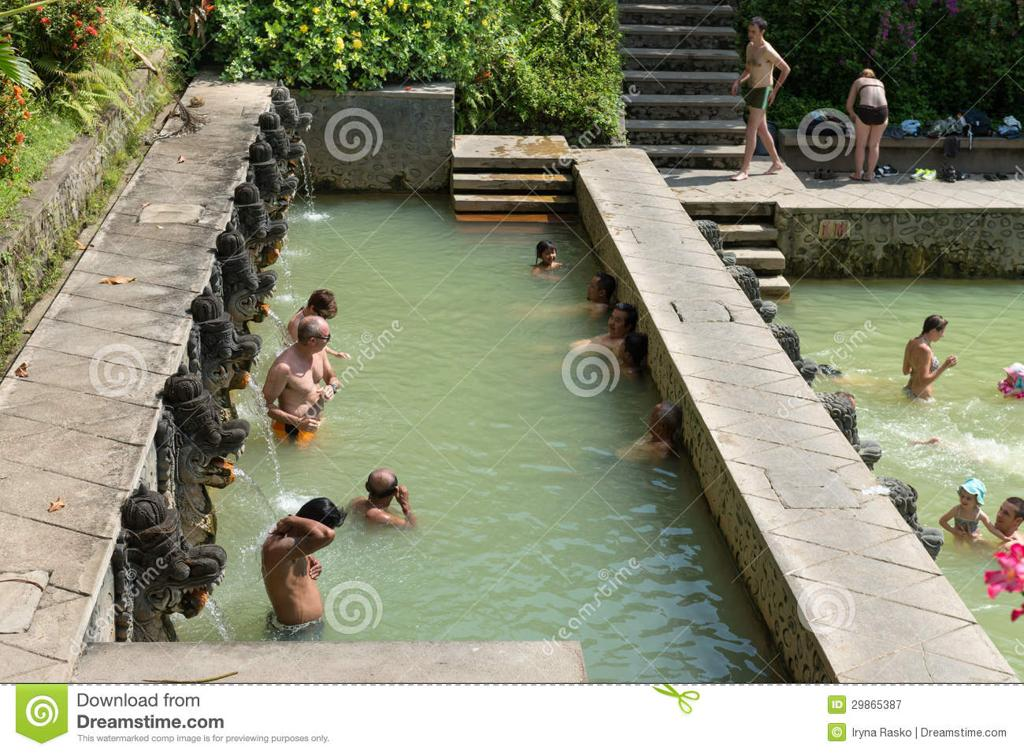face: (994, 502, 1014, 528), (608, 310, 625, 336), (958, 486, 975, 509), (314, 331, 330, 353), (648, 411, 664, 433), (619, 340, 631, 362), (588, 279, 601, 297), (747, 22, 759, 41), (542, 246, 555, 263), (932, 324, 944, 341)
